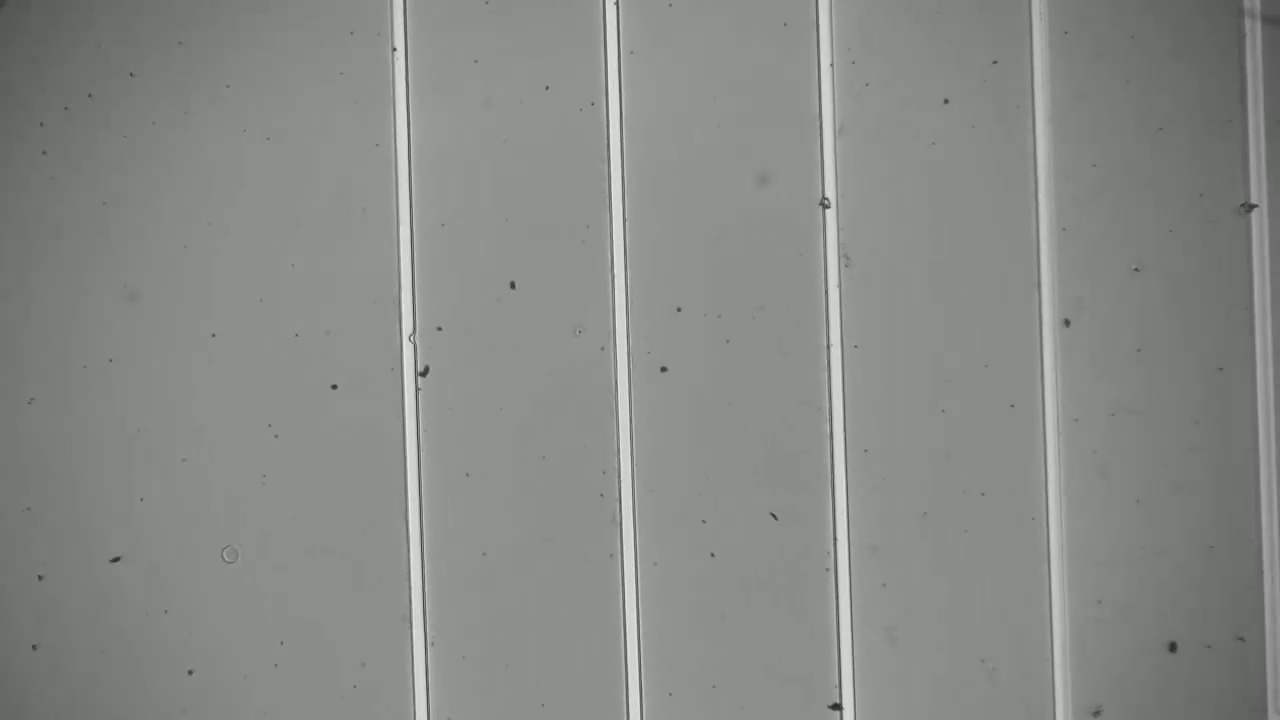edge_bite: (392, 326, 421, 349)
stains_enbedded: (1233, 192, 1275, 223), (811, 187, 844, 217)
